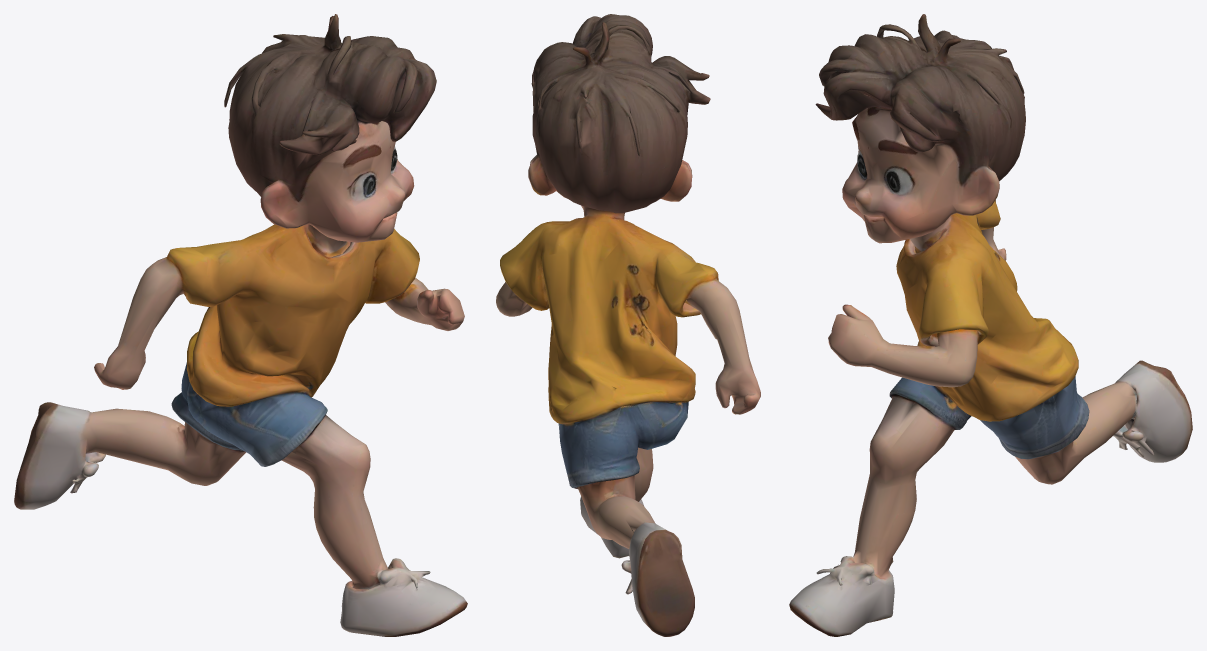
File: Athletic_boy.glb
3 renders of one model, left to right at view 1: azimuth 30°, elevation 25°; view 2: azimuth 150°, elevation 25°; view 3: azimuth 270°, elevation 25°, orthographic. The views are drawn at different scales.
Parts seen in each view (by area): view 1: 3d66-Editable_Poly-23234333-003; view 2: 3d66-Editable_Poly-23234333-003; view 3: 3d66-Editable_Poly-23234333-003.
Part boxes in pixels (x1=…): 3d66-Editable_Poly-23234333-003: x1=14, y1=14, x2=467, y2=636; 3d66-Editable_Poly-23234333-003: x1=496, y1=14, x2=760, y2=636; 3d66-Editable_Poly-23234333-003: x1=789, y1=14, x2=1192, y2=636.
Bounding box in the file's own units: 0.5346 × 0.9877 × 0.6007.
Materials: 1 (1 with a texture image).
